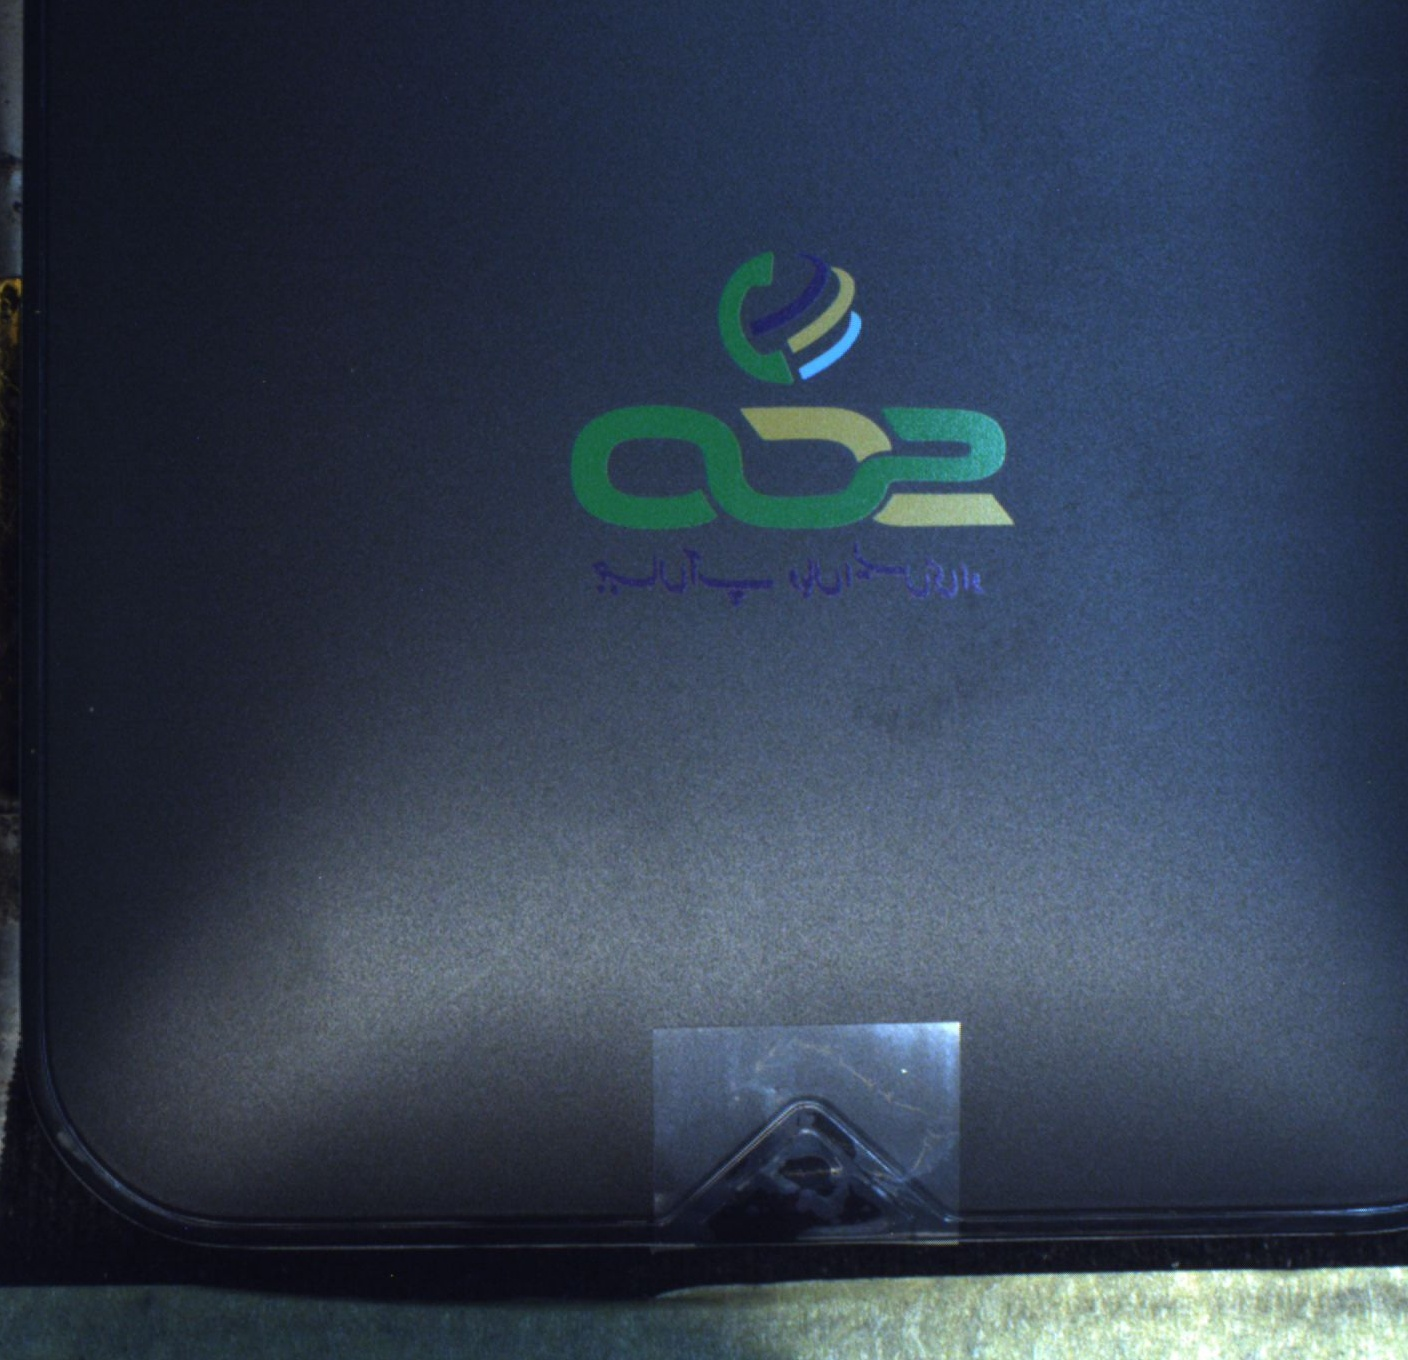BZ_HG680PSCOFirbeHome: (533, 225, 1038, 639)
